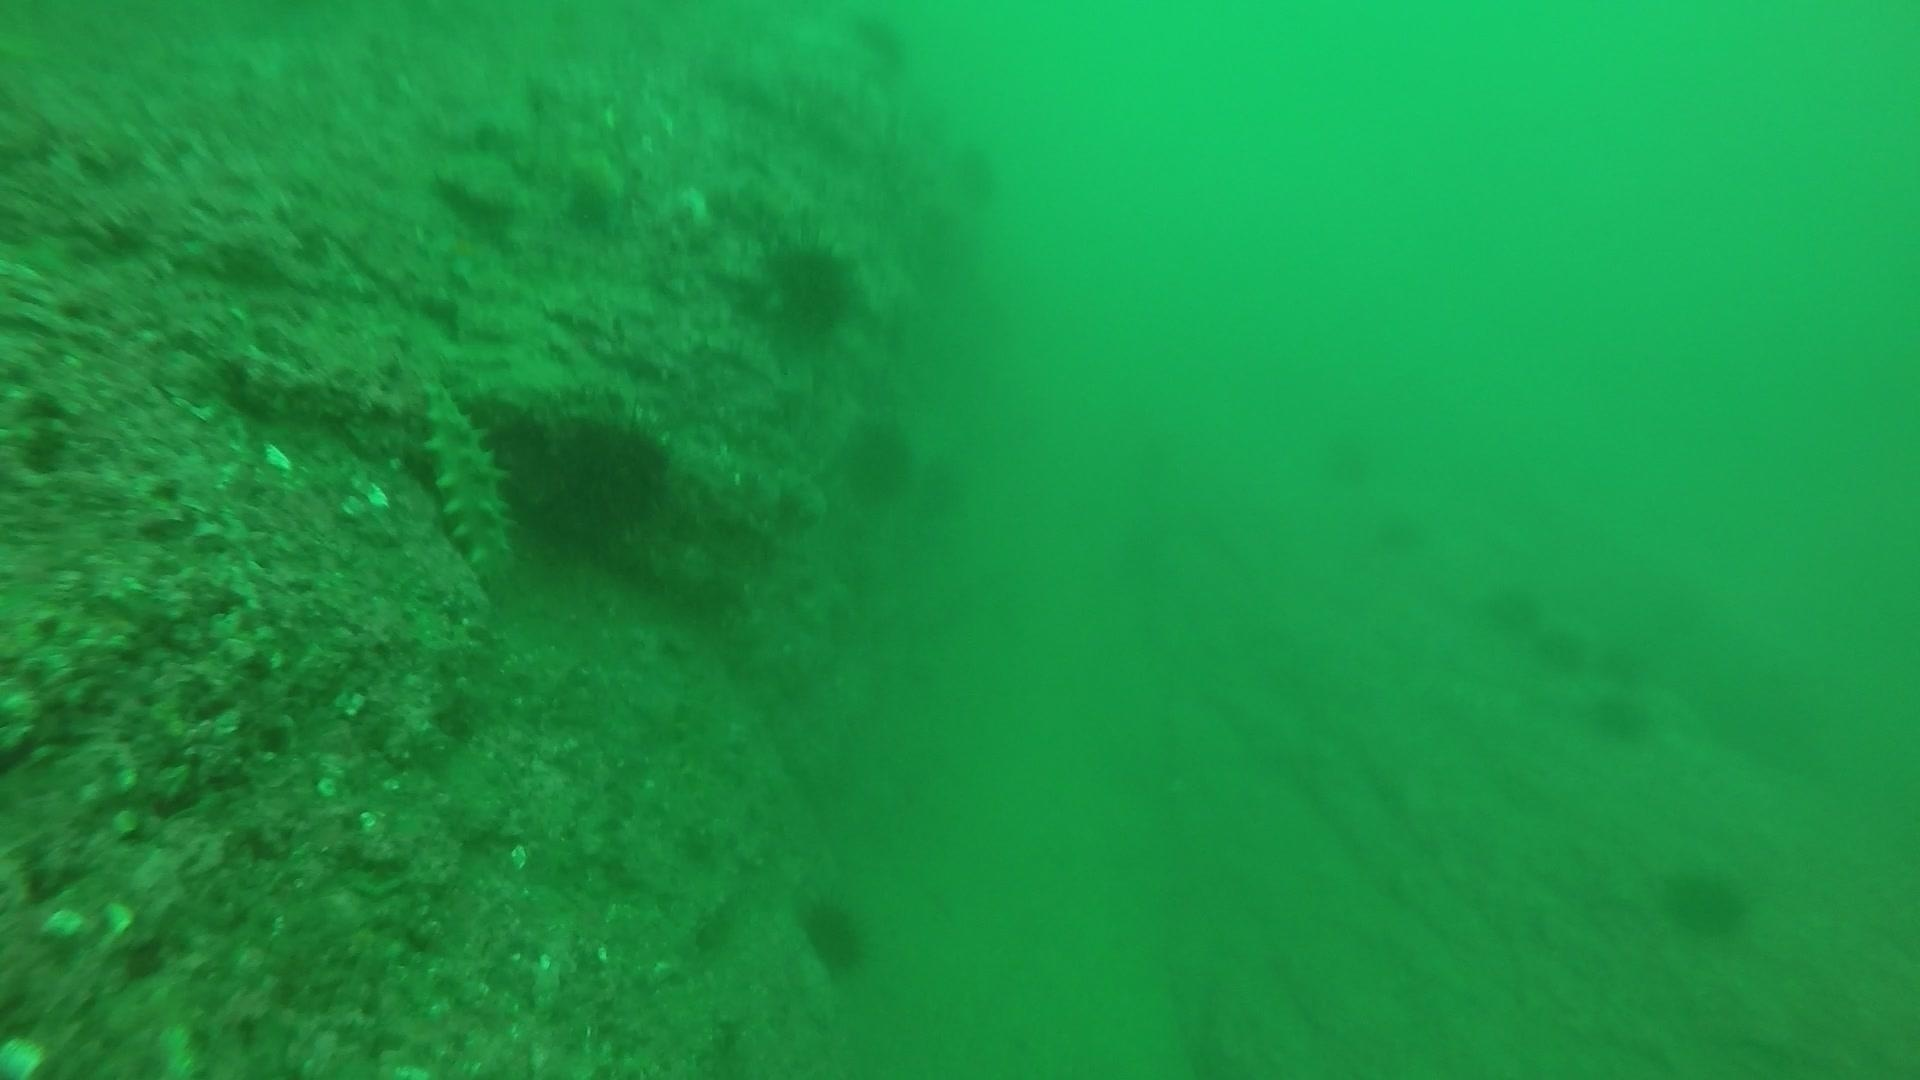echinus: (541, 406, 679, 542), (753, 229, 864, 347), (833, 411, 919, 506), (1658, 858, 1753, 940), (793, 890, 876, 978), (1518, 621, 1592, 684), (1476, 587, 1549, 650), (1346, 506, 1420, 570), (1312, 425, 1386, 488), (1582, 684, 1656, 746), (944, 137, 1005, 210), (839, 1, 899, 73)
holothurian: (410, 381, 524, 585)
